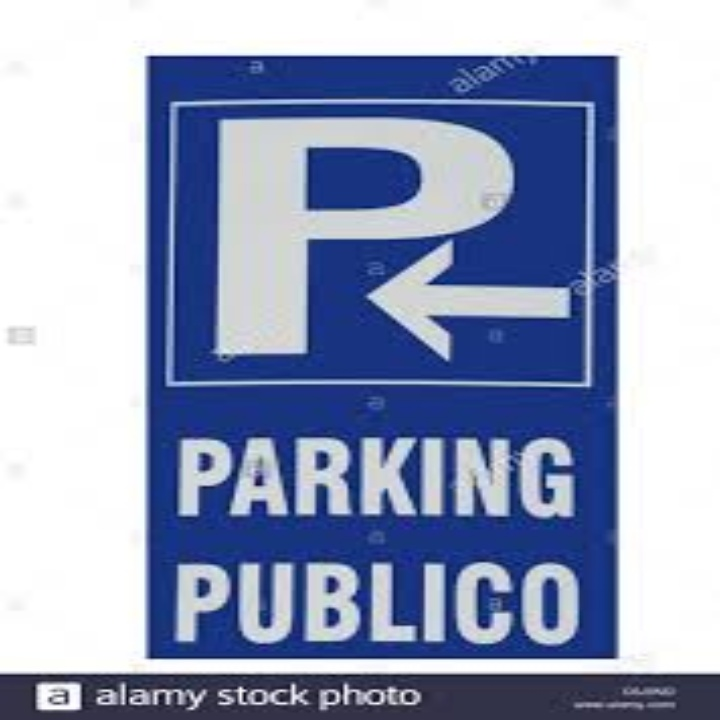parking: (204, 109, 530, 366)
